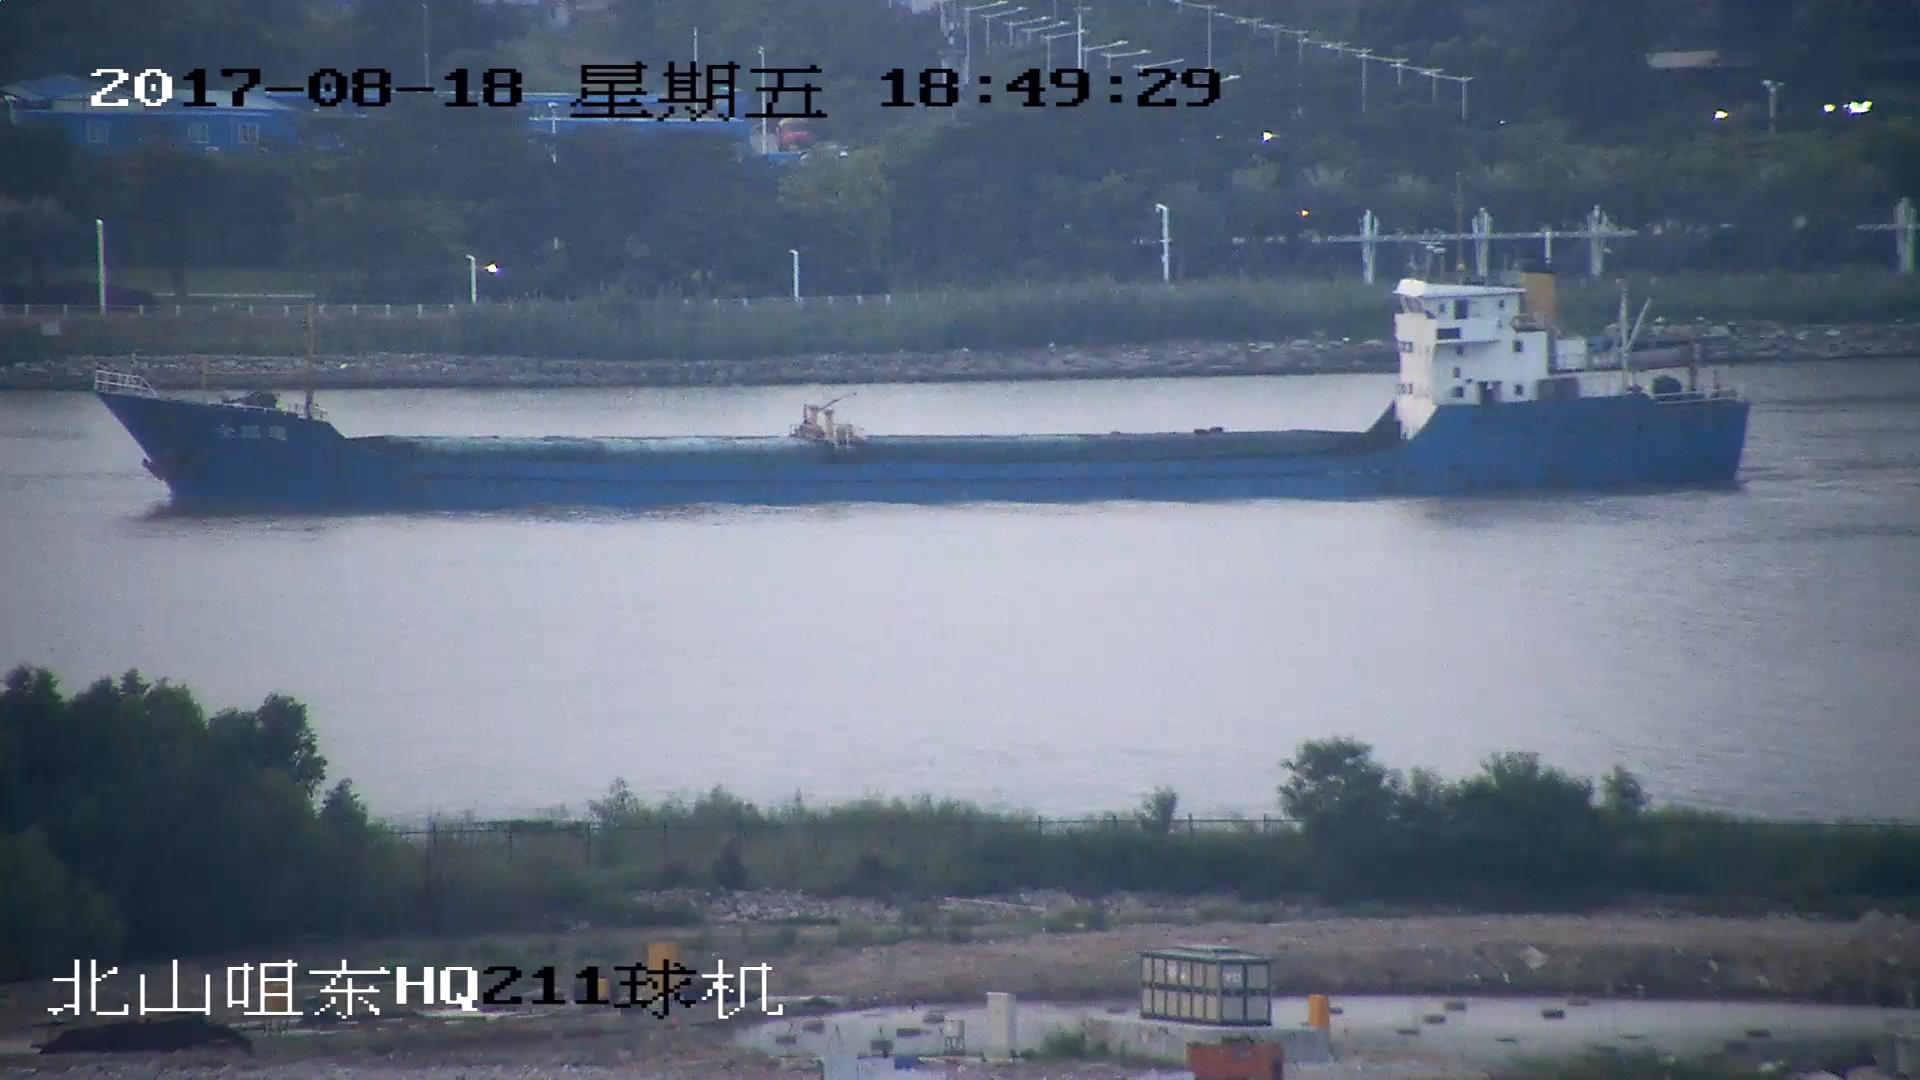general cargo ship: (93, 273, 1748, 505)
